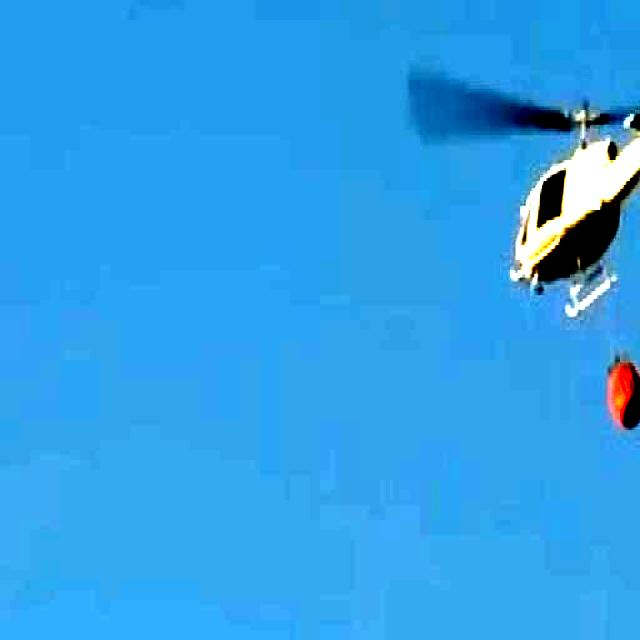drone: (489, 1, 640, 325)
